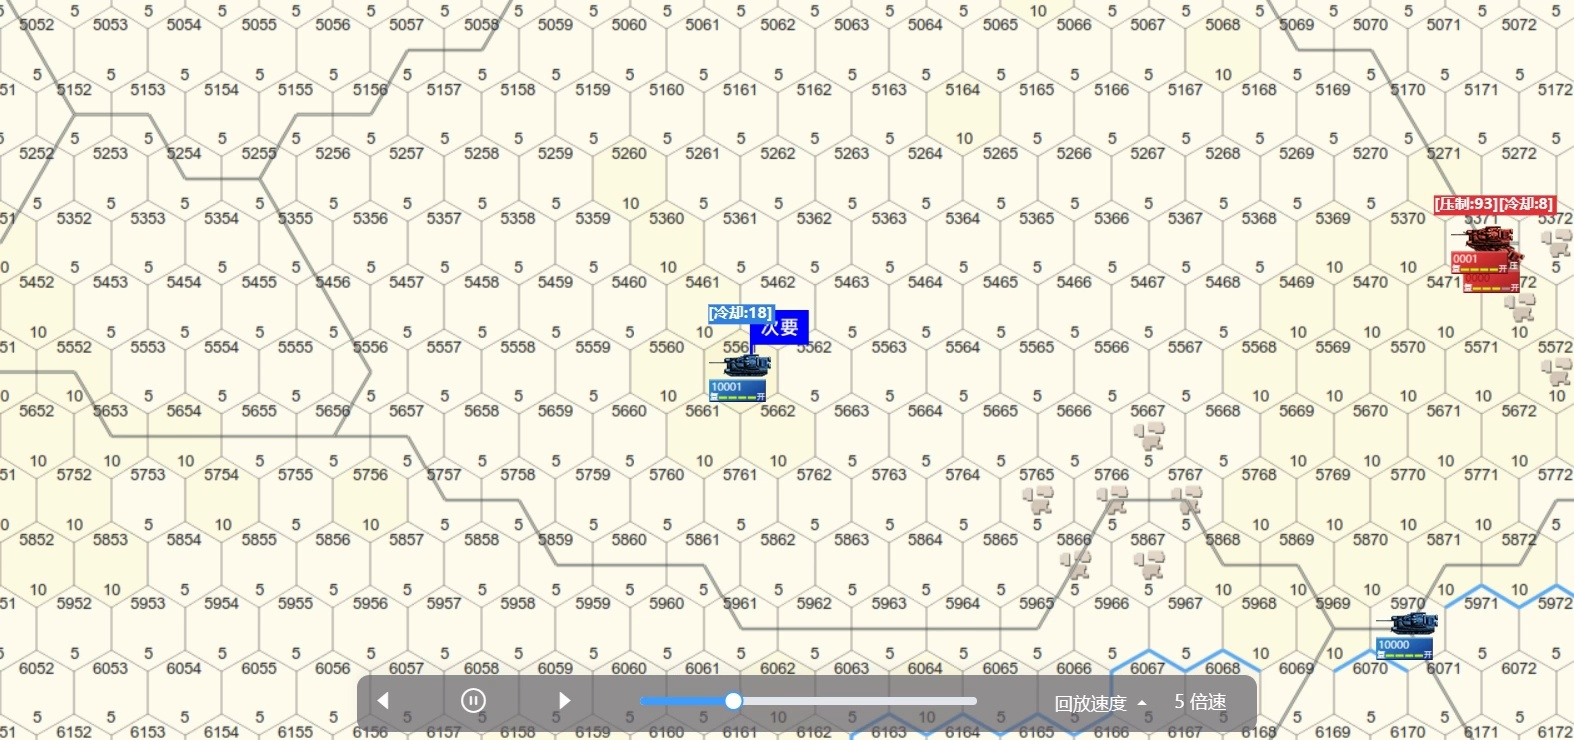blue_tank: (711, 358, 777, 401), (1378, 612, 1442, 656)
red_tank: (1452, 232, 1523, 294)
